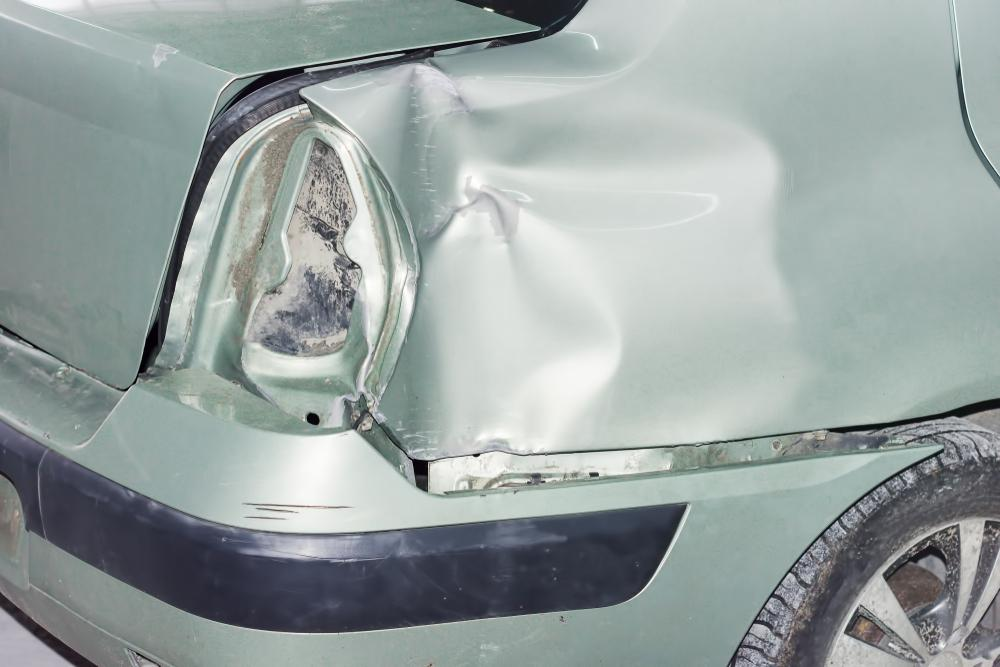dent: (375, 70, 861, 462)
scratch: (241, 495, 360, 524)
